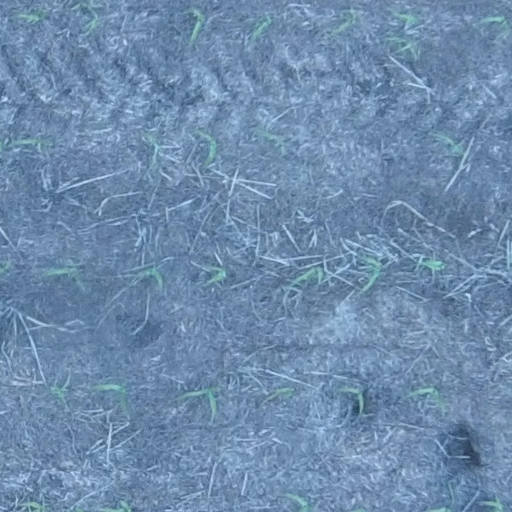planta: (181, 385, 218, 415), (358, 254, 383, 294), (96, 381, 128, 410), (289, 265, 328, 287), (194, 128, 217, 165), (44, 263, 83, 283), (131, 266, 166, 287), (259, 385, 295, 405), (409, 385, 443, 406), (338, 385, 364, 411), (439, 132, 464, 157), (188, 8, 205, 44), (335, 10, 358, 35), (251, 15, 274, 40), (201, 263, 228, 284), (257, 128, 283, 149), (392, 10, 420, 29), (82, 1, 99, 31), (13, 137, 50, 149), (481, 14, 508, 28)
